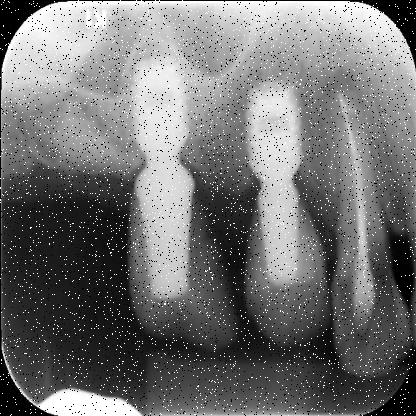Bicon: (122, 51, 194, 160), (239, 77, 307, 179)
